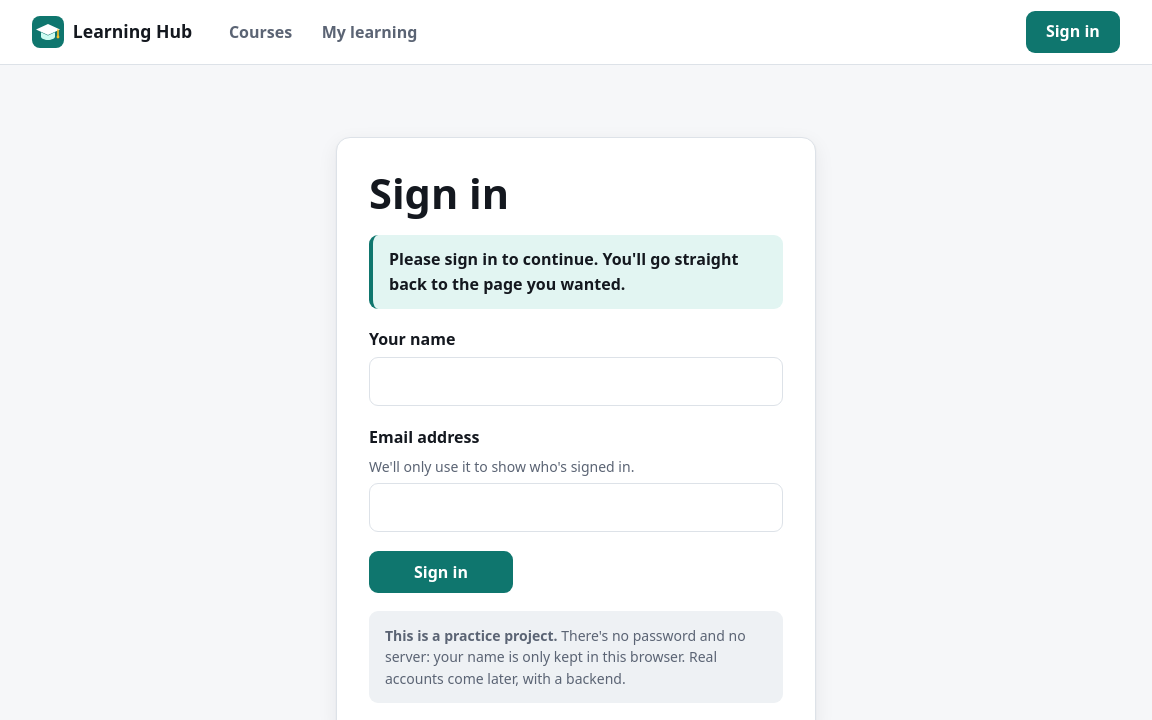
it: signing in › sends you to sign in from a lesson, then brings you back
Expected: the heading "Sign in" is shown, top-left (369, 165), bottom-right (509, 221)
Expected: the message shows "Please sign in to continue", top-left (389, 248), bottom-right (738, 295)
Step 1. Type "Test Student" into the field labelled "Your name" → coordinates (576, 382), box top-left (369, 357), bottom-right (783, 406)
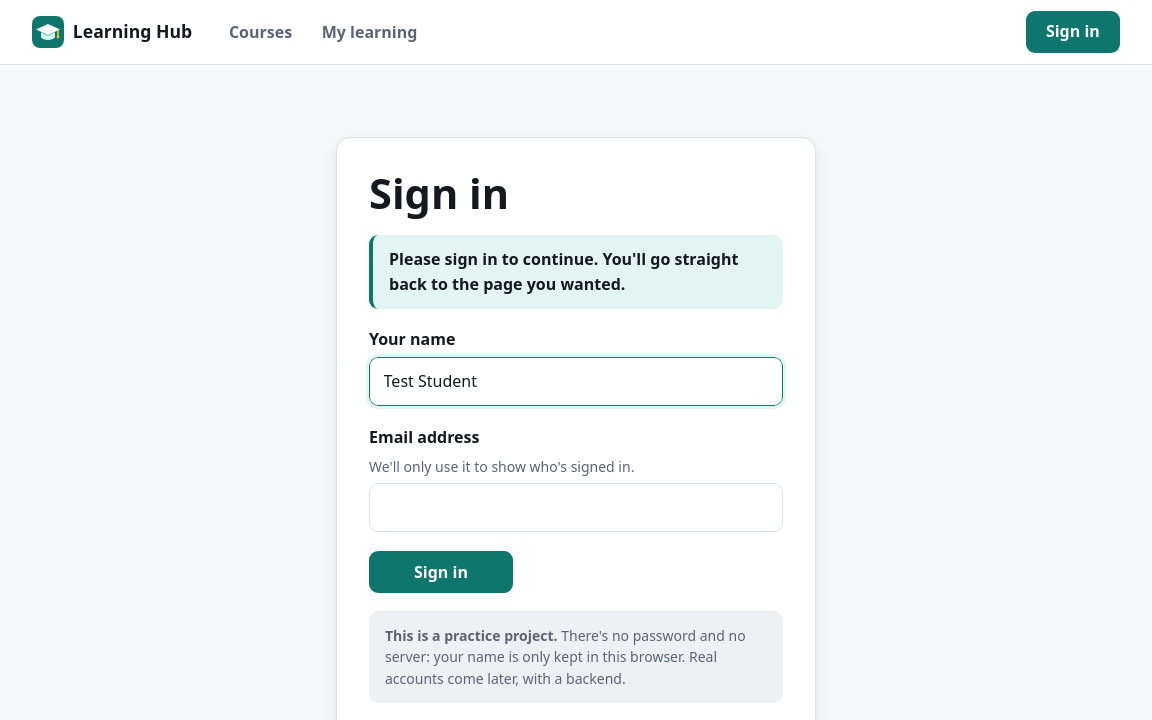
Step 2. Type "test.student@example.com" into the field labelled "Email address" → coordinates (576, 508), box top-left (369, 483), bottom-right (783, 532)
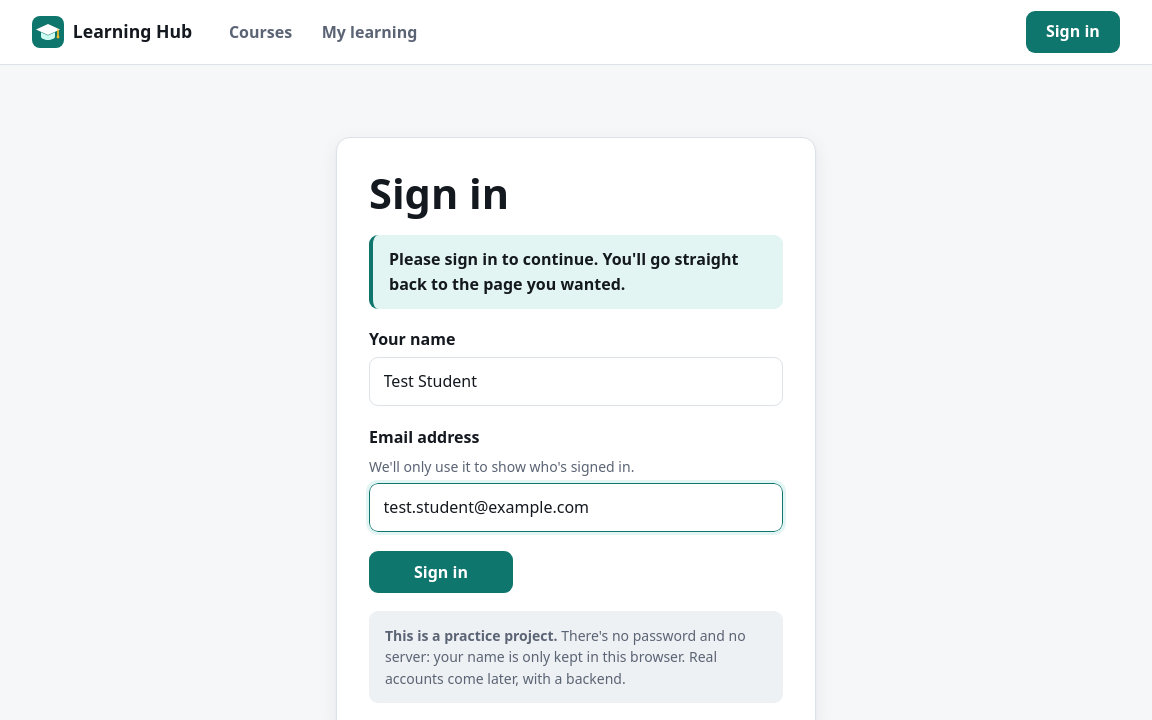
Step 3. Click the button "Sign in" → coordinates (441, 572), box top-left (369, 551), bottom-right (513, 593)
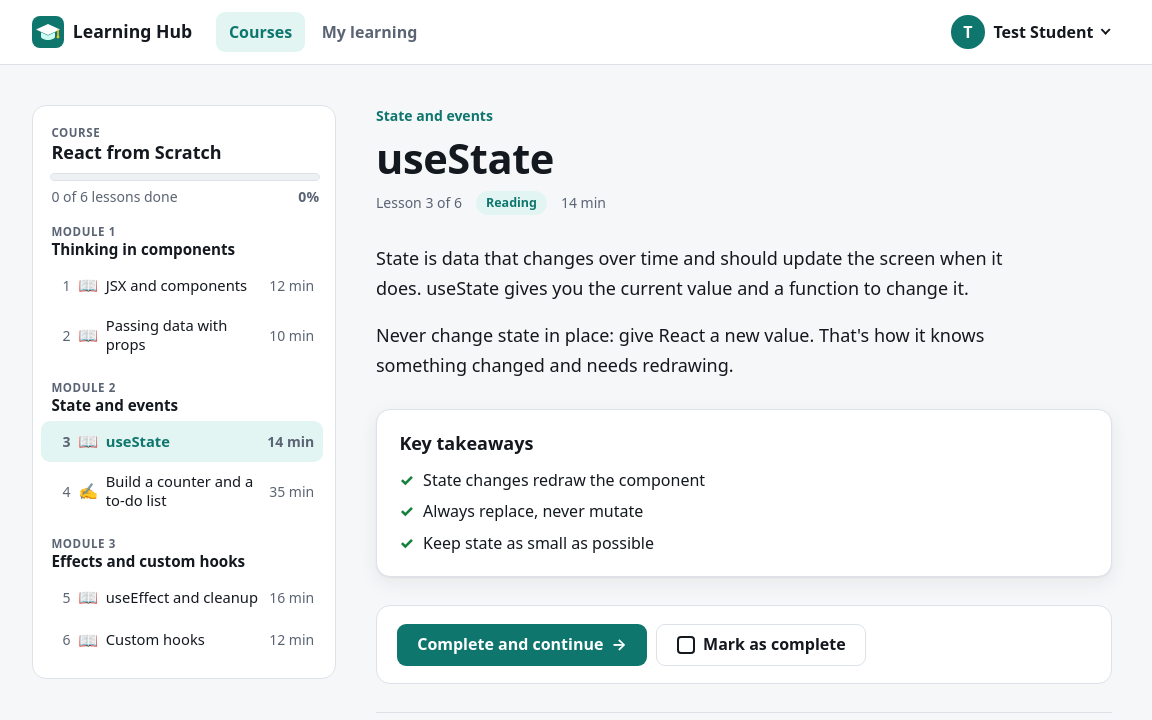
Expected: the heading "useState" is shown, top-left (376, 130), bottom-right (554, 186)
